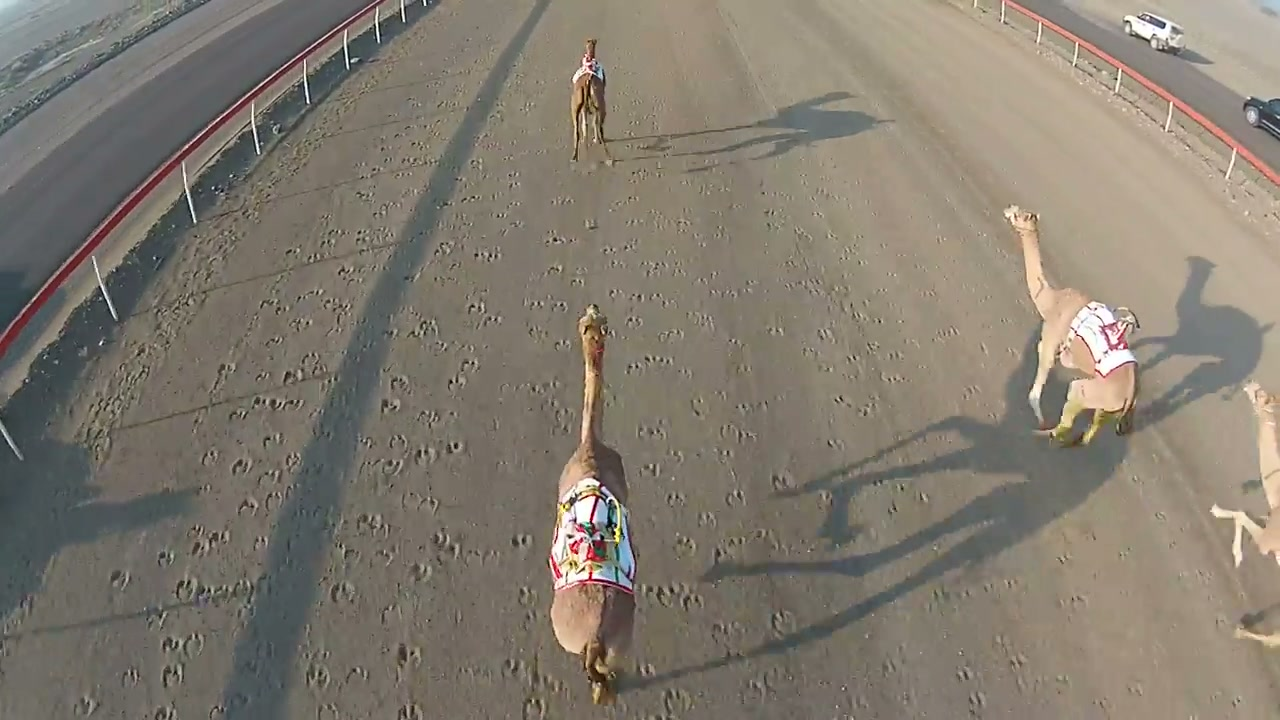animal_foot_print: (104, 135, 595, 695), (609, 166, 800, 691), (1040, 433, 1219, 708)
